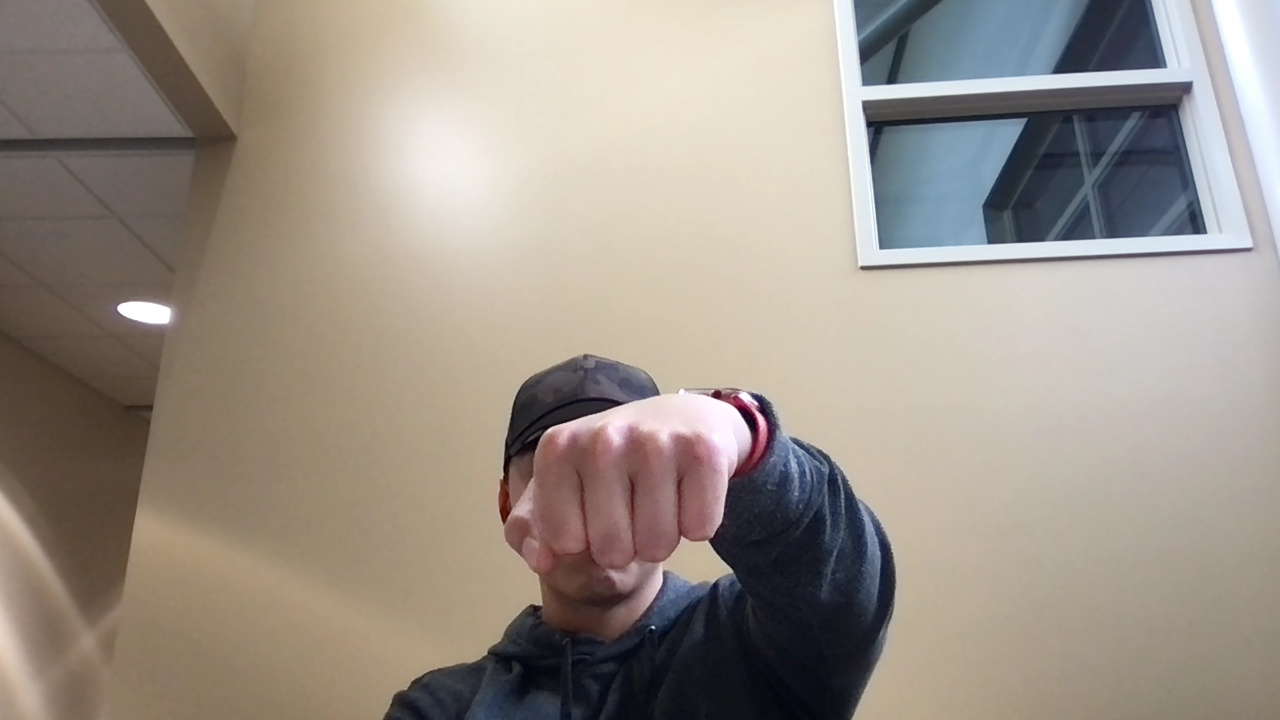Yes: (498, 390, 754, 580)
